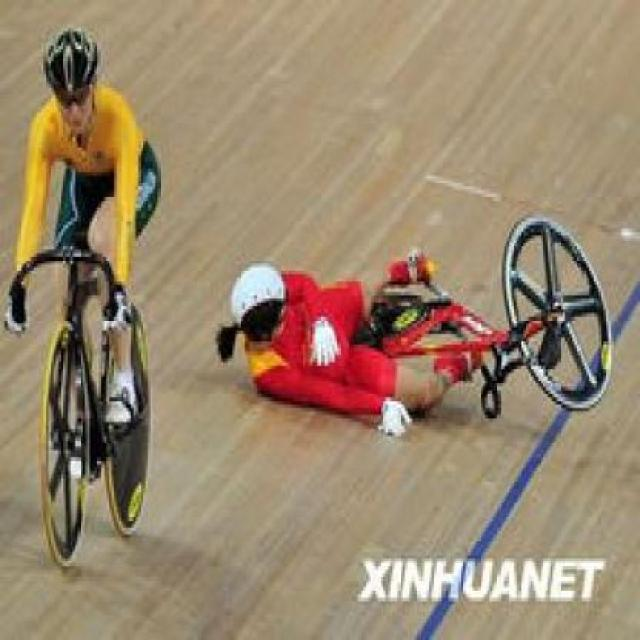fall: (208, 229, 482, 446)
